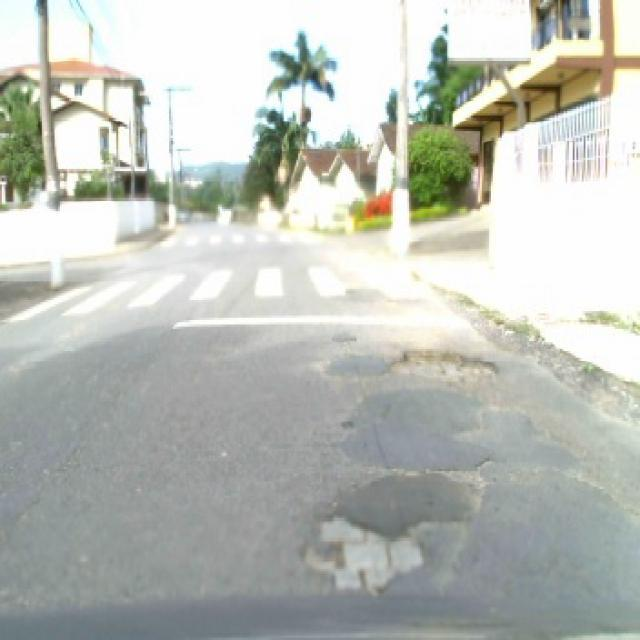Poth-hole: (294, 506, 430, 594), (408, 511, 476, 593), (416, 448, 496, 514), (387, 344, 502, 380), (336, 416, 353, 426)
